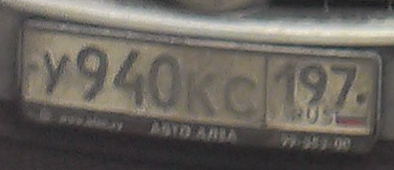character: (112, 44, 147, 113), (146, 47, 183, 112), (74, 43, 110, 106), (221, 68, 261, 122), (184, 68, 219, 118), (40, 47, 73, 99), (300, 58, 330, 105), (328, 61, 358, 108), (272, 61, 298, 105)
